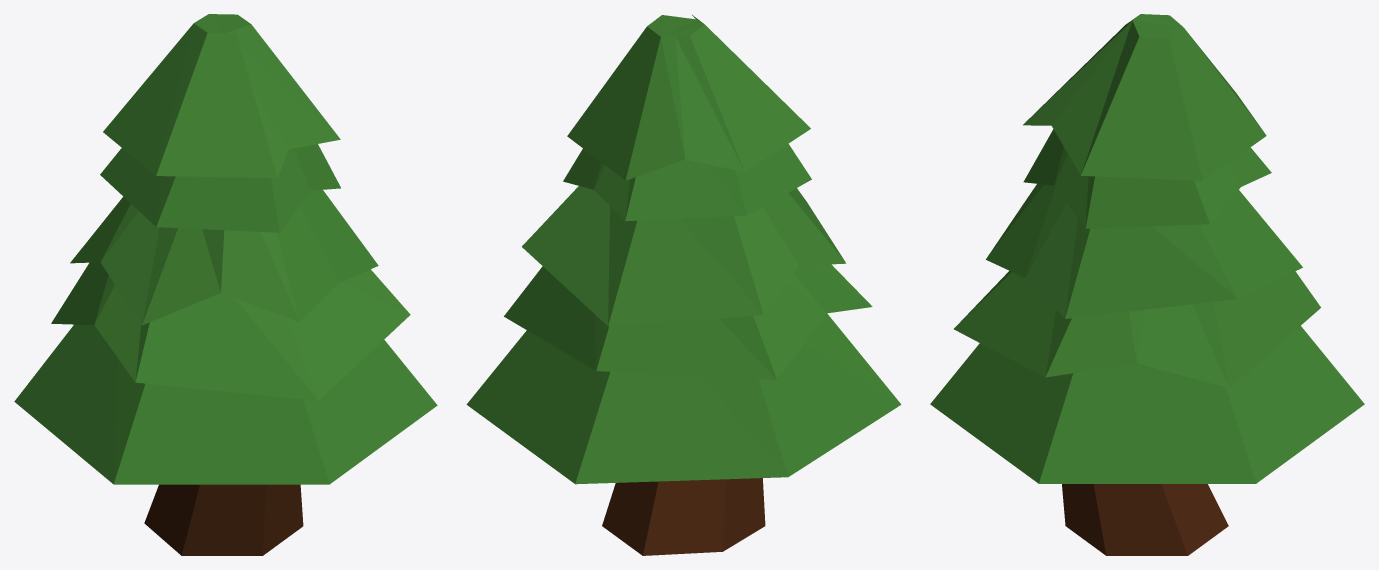
The model's file is forest-conifer-wide.glb.
3 renders of one model, left to right at view 1: azimuth 30°, elevation 25°; view 2: azimuth 150°, elevation 25°; view 3: azimuth 270°, elevation 25°, orthographic.
Parts seen in each view (by area): view 1: Cylinder.002, Cylinder.003, Cylinder.006, Cylinder.004, Cylinder.005, Cylinder.001; view 2: Cylinder.002, Cylinder.004, Cylinder.006, Cylinder.003, Cylinder.005, Cylinder.001; view 3: Cylinder.002, Cylinder.004, Cylinder.006, Cylinder.003, Cylinder.005, Cylinder.001.
Part boxes in pixels (box(x1,y1,x2,y2)): Cylinder.002: box(14, 324, 437, 484); Cylinder.003: box(51, 262, 410, 400); Cylinder.006: box(103, 14, 340, 178); Cylinder.004: box(70, 190, 378, 325); Cylinder.005: box(100, 144, 340, 232); Cylinder.001: box(144, 484, 303, 555); Cylinder.002: box(466, 313, 901, 484); Cylinder.004: box(522, 186, 846, 326); Cylinder.006: box(567, 15, 810, 180); Cylinder.003: box(504, 264, 872, 379); Cylinder.005: box(563, 144, 811, 221); Cylinder.001: box(602, 478, 765, 555); Cylinder.002: box(930, 326, 1364, 483); Cylinder.004: box(986, 183, 1302, 318); Cylinder.006: box(1023, 14, 1266, 180); Cylinder.003: box(953, 271, 1320, 387); Cylinder.005: box(1023, 129, 1271, 228); Cylinder.001: box(1062, 484, 1228, 555).
Size of the model in its own units: 2.02 by 2.97 by 2.33.
